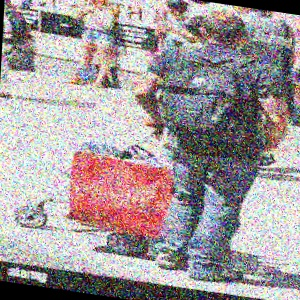bershka: (125, 89, 208, 294)
